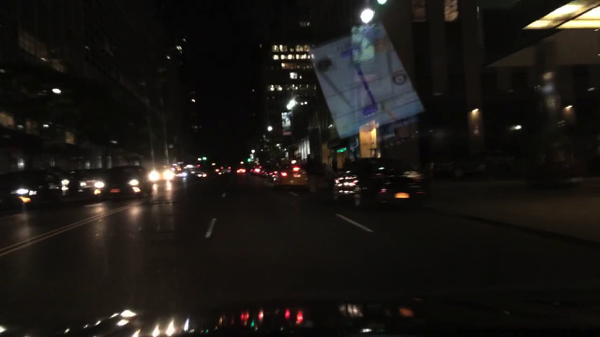car: (333, 156, 432, 210), (0, 169, 64, 211), (94, 164, 154, 200), (432, 155, 489, 182), (274, 159, 309, 192), (469, 147, 514, 169), (78, 166, 110, 195), (57, 169, 81, 198), (149, 166, 179, 185), (183, 164, 206, 180), (268, 168, 281, 181), (257, 169, 272, 179), (219, 162, 231, 173), (236, 166, 248, 176), (250, 165, 260, 176)
